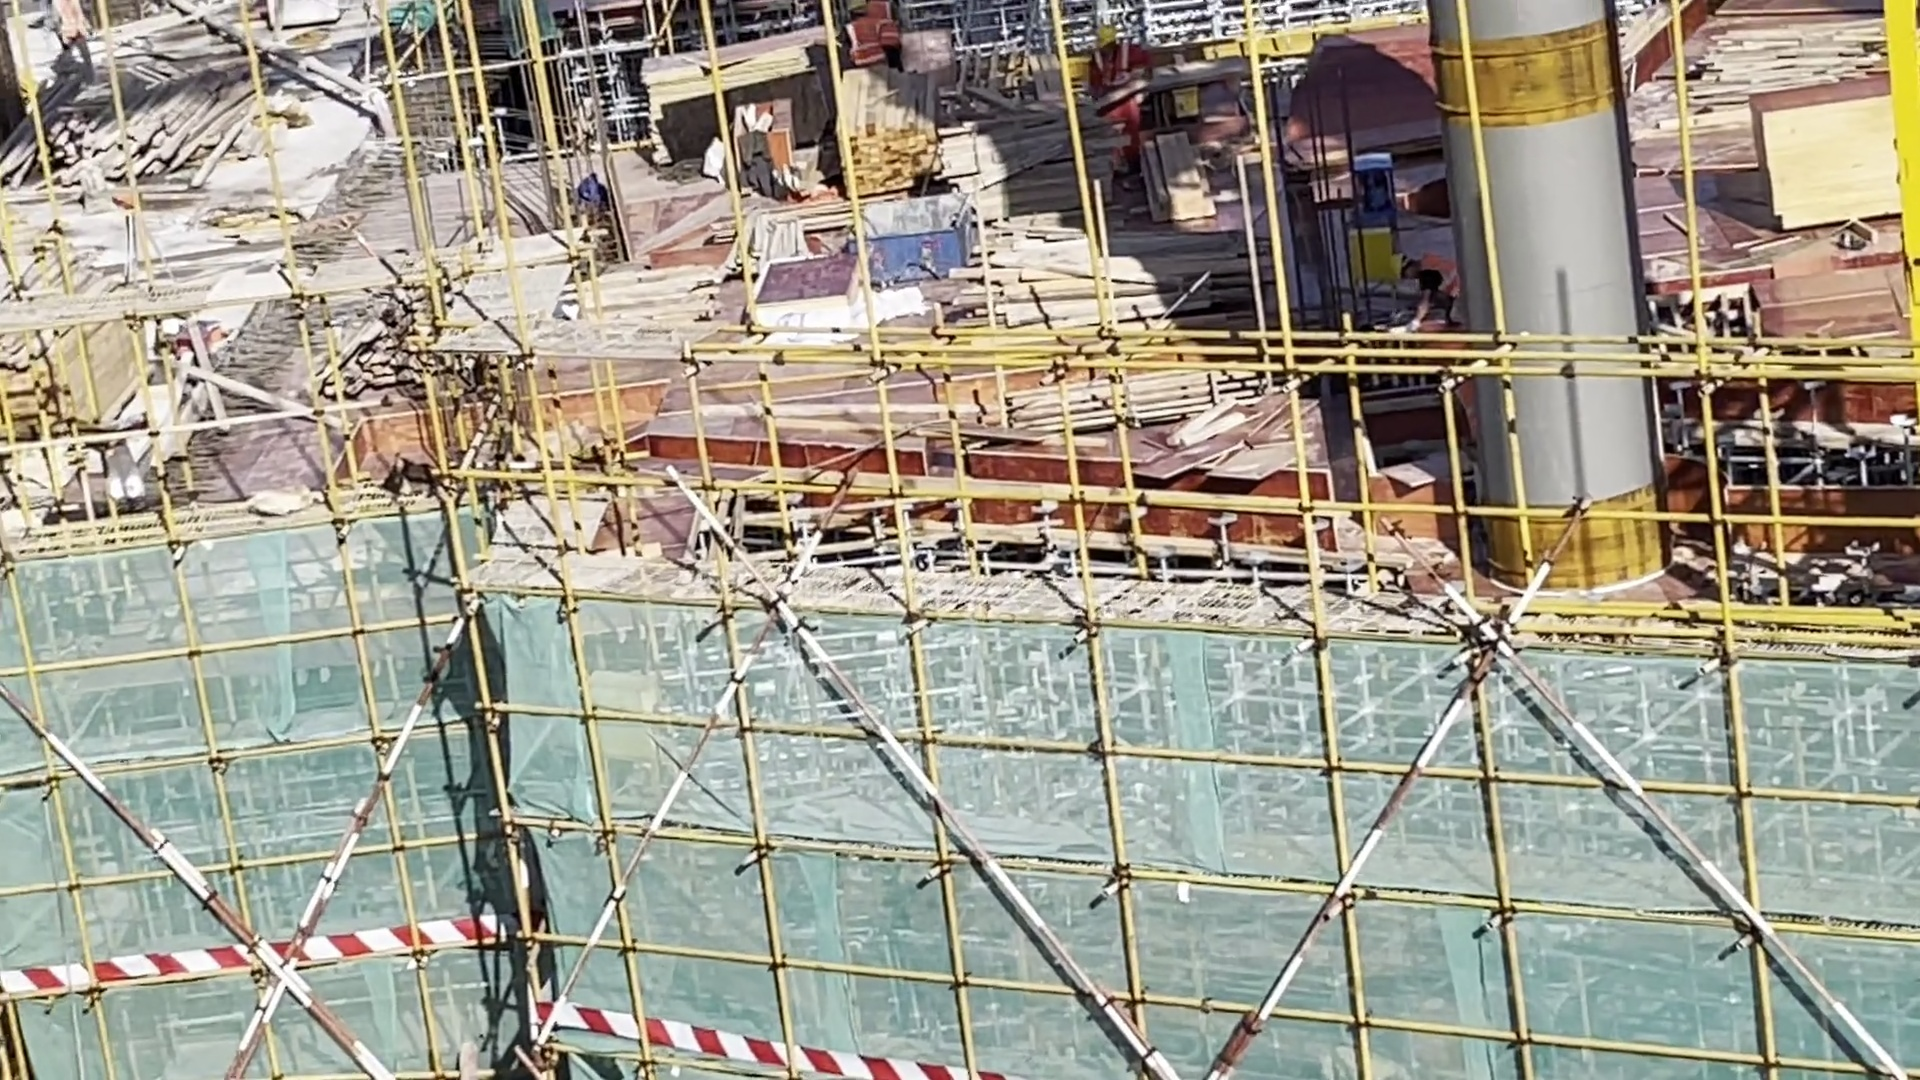board: (1152, 393, 1285, 483)
helmet: (1373, 242, 1411, 294), (1094, 25, 1119, 48)
hopper: (838, 202, 991, 297)
person: (1084, 8, 1148, 155), (1388, 246, 1471, 338)
vest: (1094, 45, 1141, 145), (844, 17, 890, 68)
wood: (32, 34, 243, 211)
